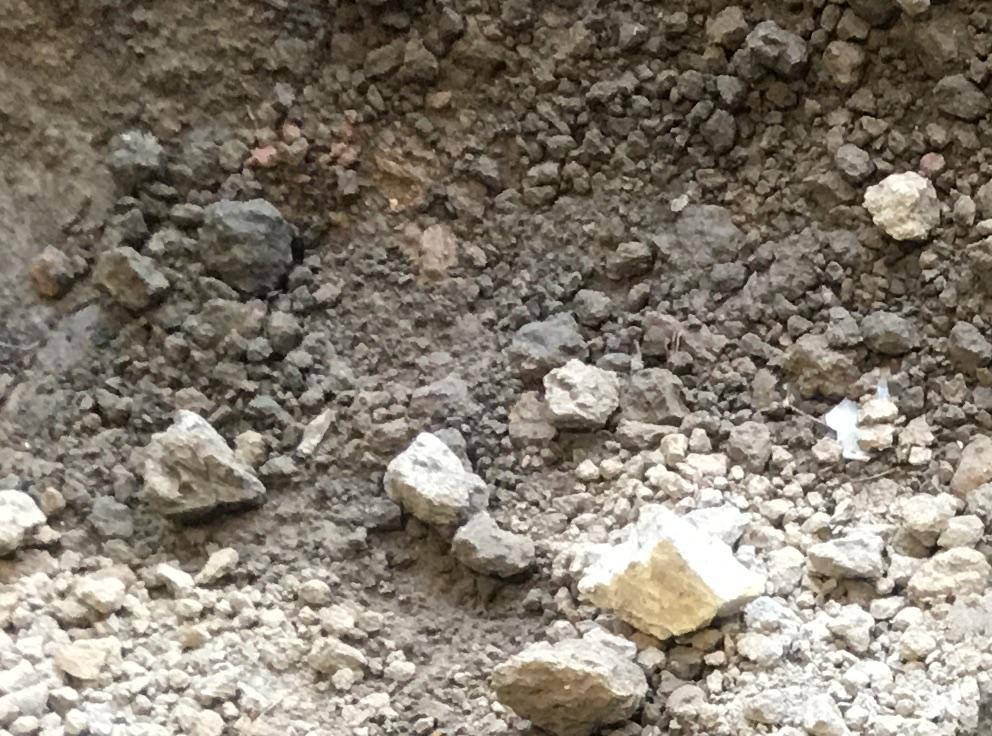block: (570, 522, 769, 642), (483, 630, 644, 736), (130, 415, 259, 517), (379, 430, 492, 538), (188, 193, 285, 295), (529, 353, 624, 433), (861, 166, 944, 252)
